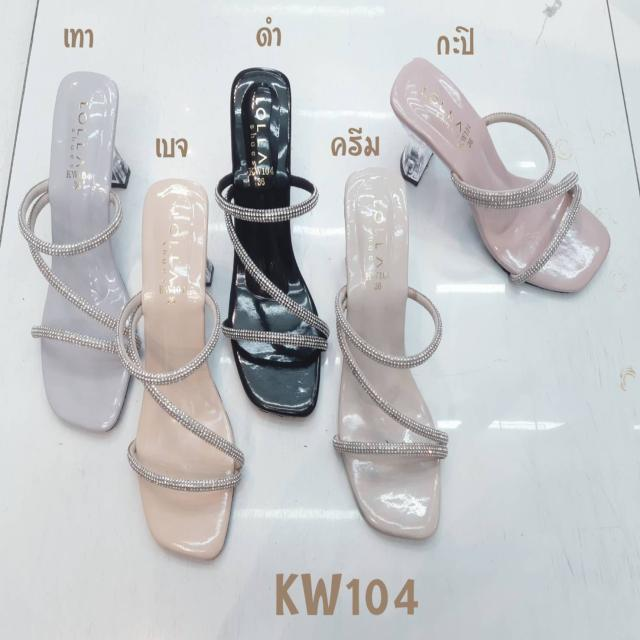bej: (130, 178, 238, 562)
black: (226, 70, 322, 413)
cream: (336, 168, 444, 538)
grey: (34, 74, 129, 435)
kapi: (387, 53, 609, 294)
